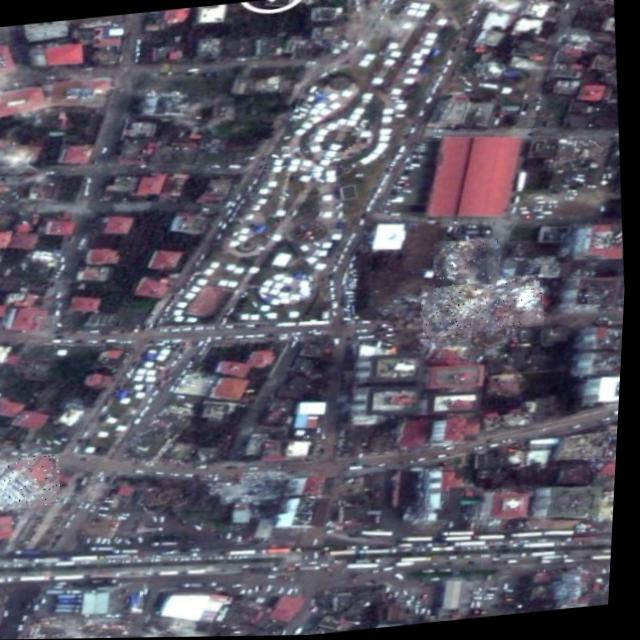Rubble: (421, 275, 549, 338), (432, 237, 504, 291), (0, 454, 66, 511)
